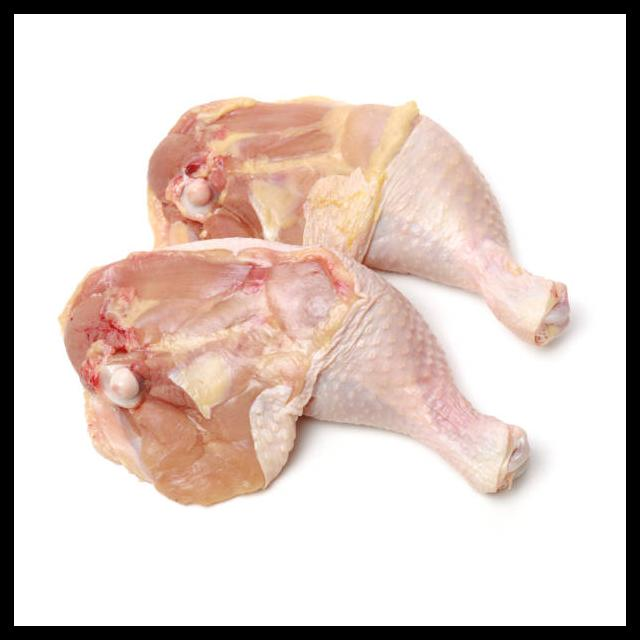chicken: (56, 93, 573, 509)
